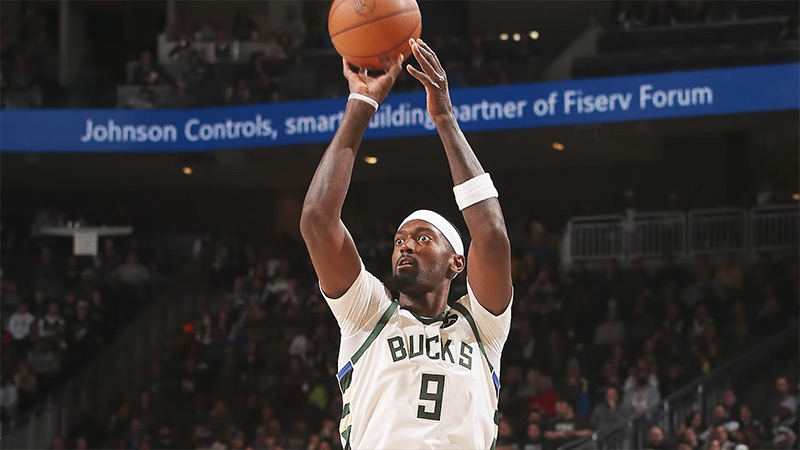Jumpshot: (298, 1, 510, 249)
